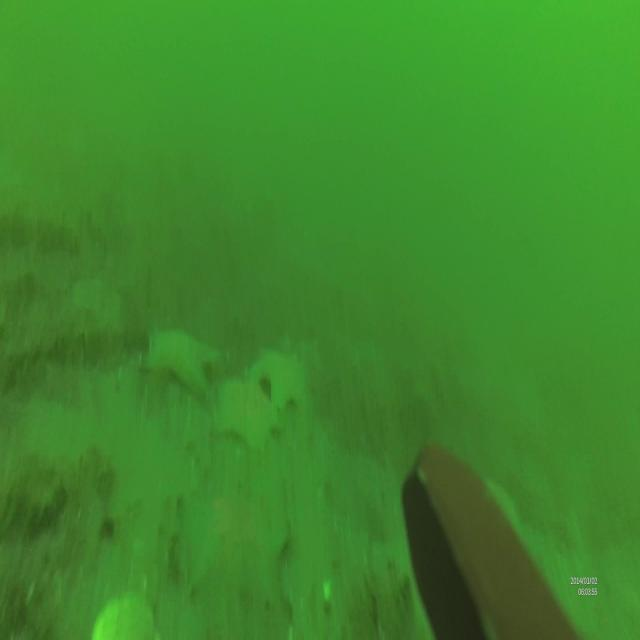starfish: (140, 325, 218, 399), (217, 378, 282, 447), (251, 348, 303, 411)
